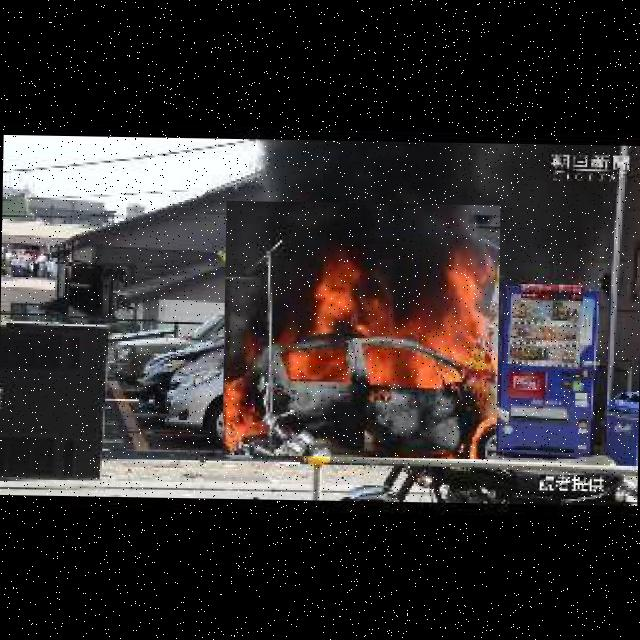fire: (222, 200, 500, 459)
